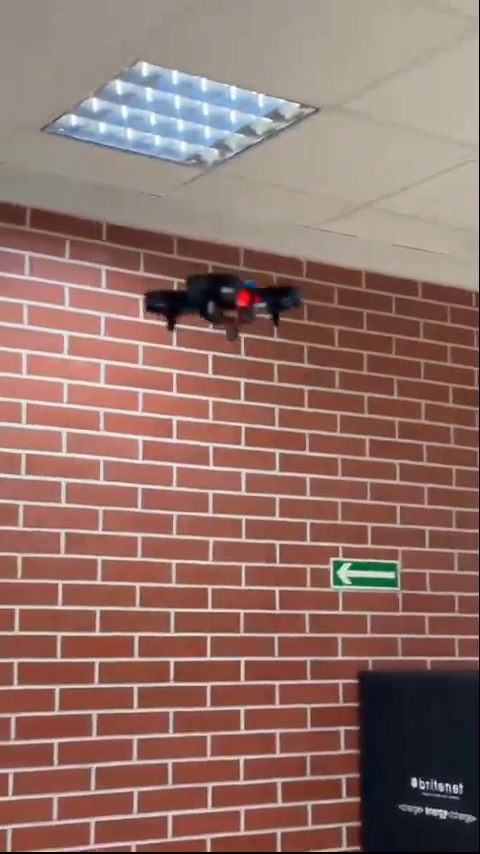drone: (140, 271, 308, 340)
